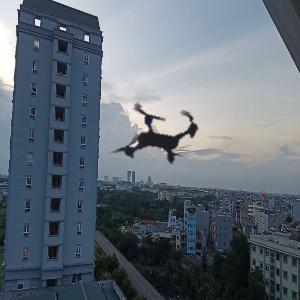drone: (90, 67, 227, 204)
